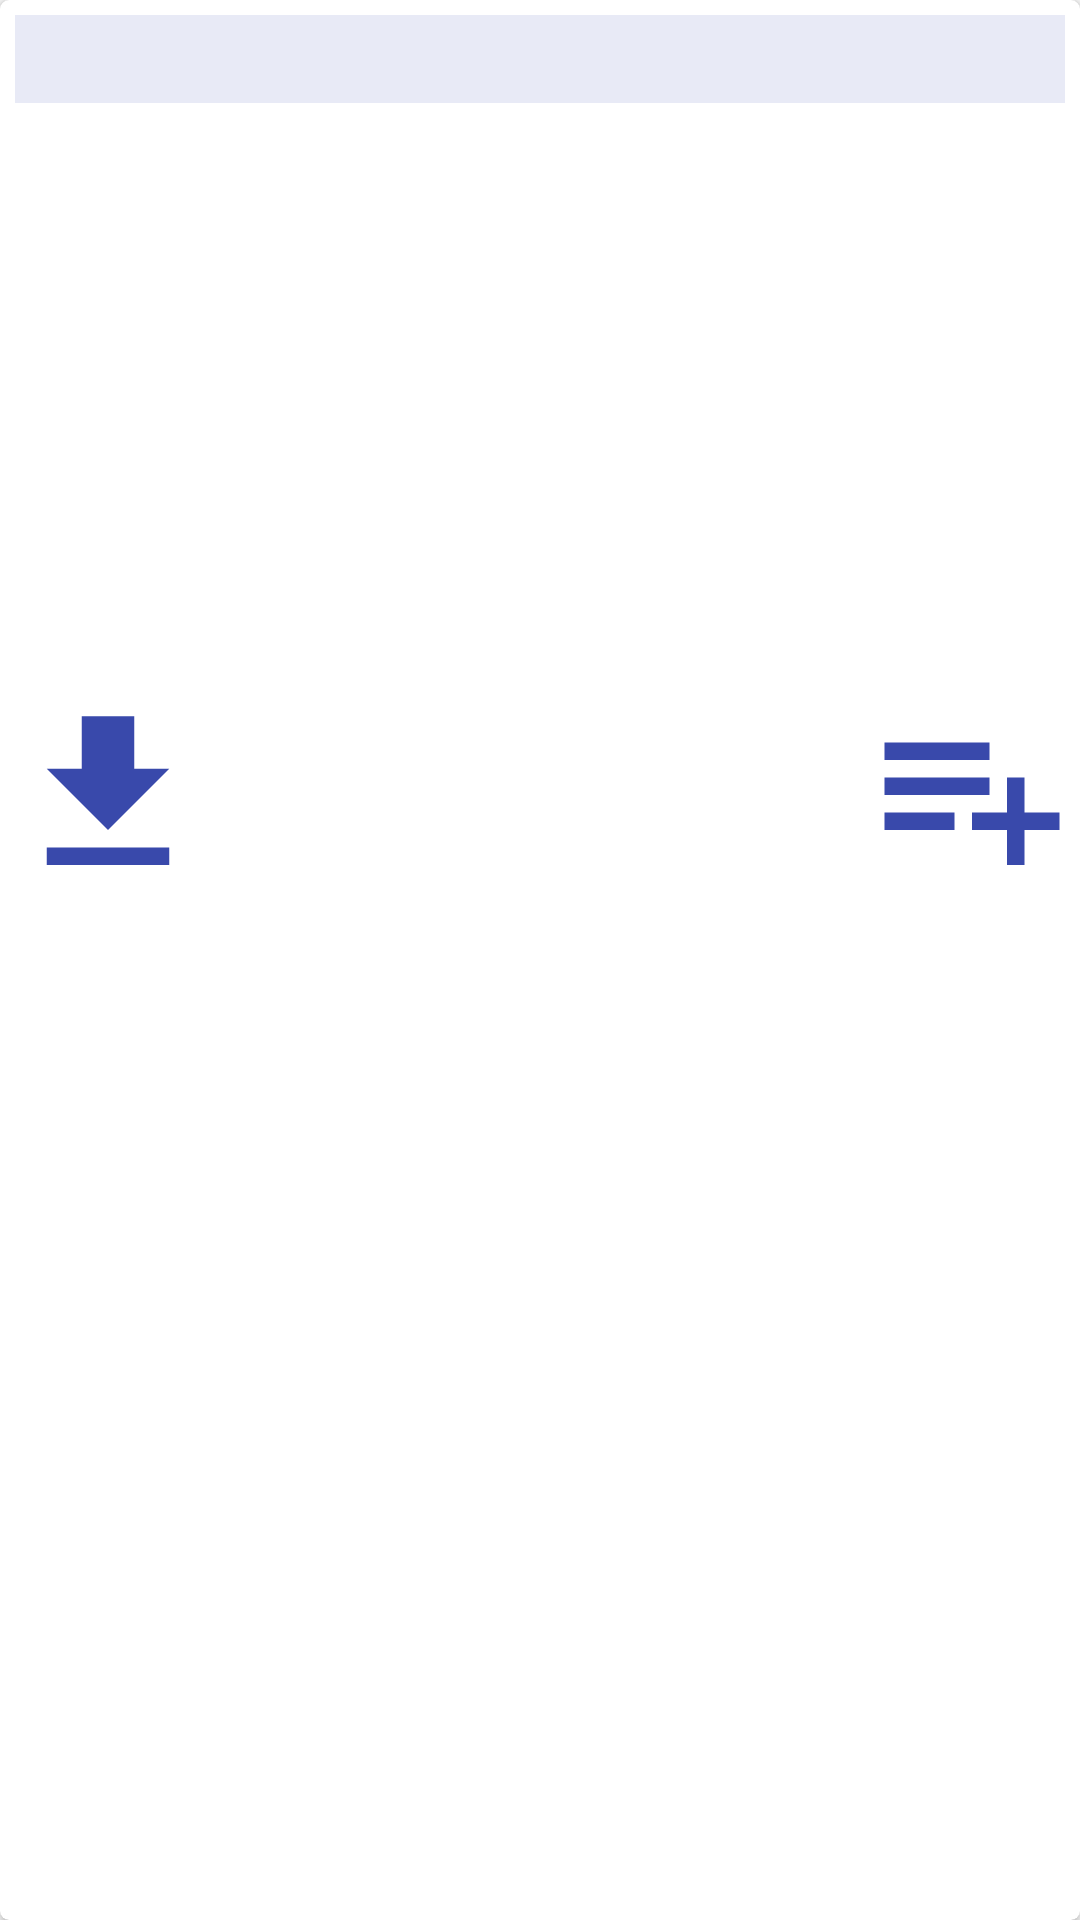

Icon click points for this 1080x1920 phone screenshot, format point (x, y):
file download: point (108, 790)
playlist add: point (972, 803)
